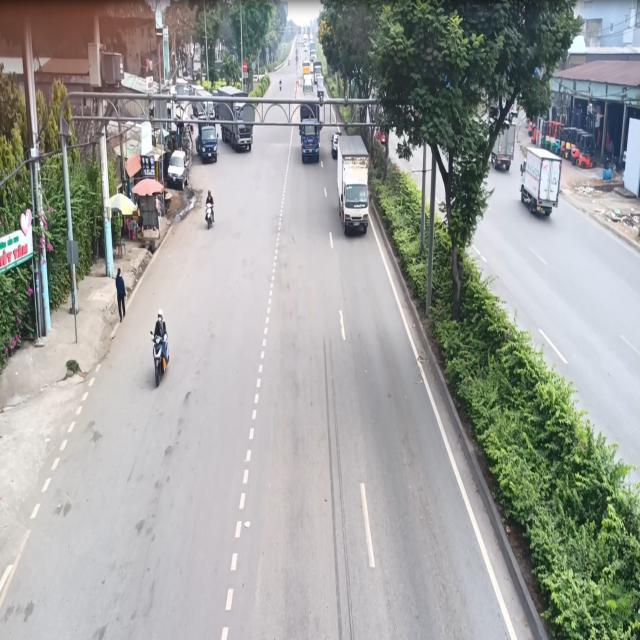motorbike: (152, 303, 172, 389), (200, 186, 219, 236)
truck: (337, 135, 372, 238), (298, 97, 324, 173)
